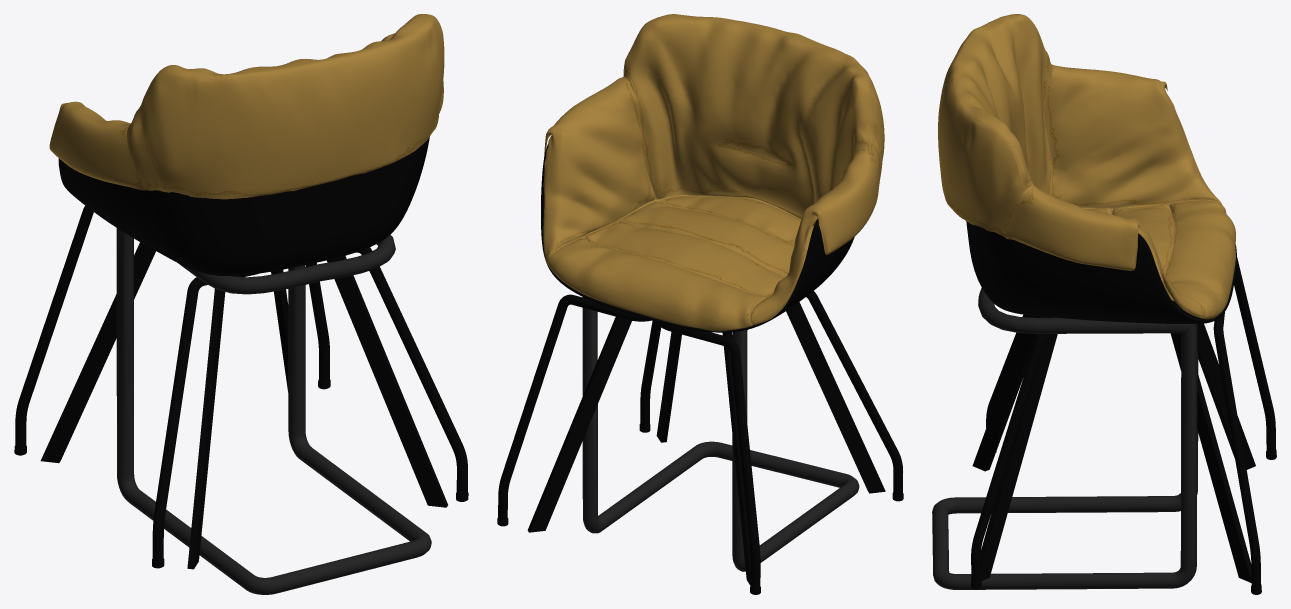
File: 3LEG GOLD TEXT.glb
The picture shows the model from 3 angles, left to right: view 1: azimuth 30°, elevation 25°; view 2: azimuth 150°, elevation 25°; view 3: azimuth 270°, elevation 25°; orthographic projection. The views are drawn at different scales.
Parts seen in each view (by area): view 1: Object003, Plane004, LEG0, LEG1, LEG2; view 2: Object003, LEG1, LEG0, LEG2, Plane004; view 3: Object003, LEG0, Plane004, LEG1, LEG2.
Boxes of the visible parts, x1,y1,x2,y2 form: Object003: [49, 14, 444, 199]; Plane004: [58, 136, 429, 275]; LEG0: [116, 228, 431, 594]; LEG1: [40, 242, 447, 569]; LEG2: [14, 205, 468, 568]; Object003: [543, 14, 884, 331]; LEG1: [527, 302, 885, 585]; LEG0: [582, 297, 859, 571]; LEG2: [497, 291, 903, 594]; Plane004: [541, 144, 854, 332]; Object003: [938, 14, 1235, 319]; LEG0: [932, 288, 1198, 589]; Plane004: [966, 221, 1236, 323]; LEG1: [972, 315, 1255, 582]; LEG2: [971, 257, 1276, 594].
Size of the model in its own units: 0.6015 by 0.8437 by 0.5492.
Materials: 5 (1 with a texture image).
